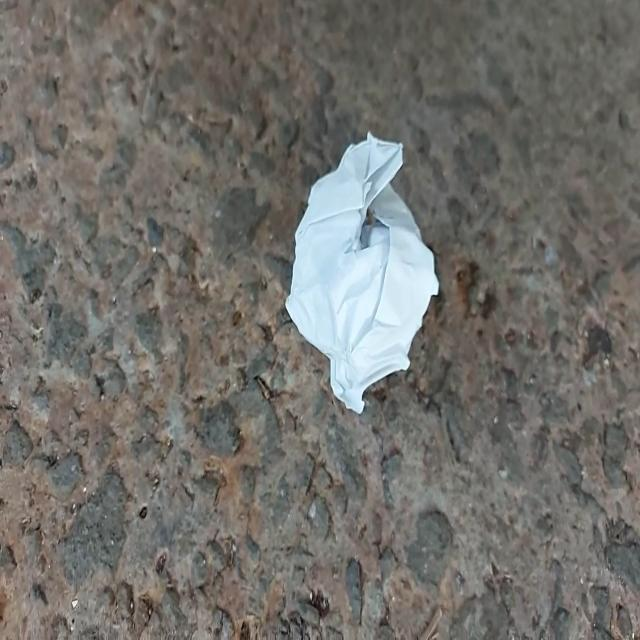Paper: (259, 112, 462, 423)
